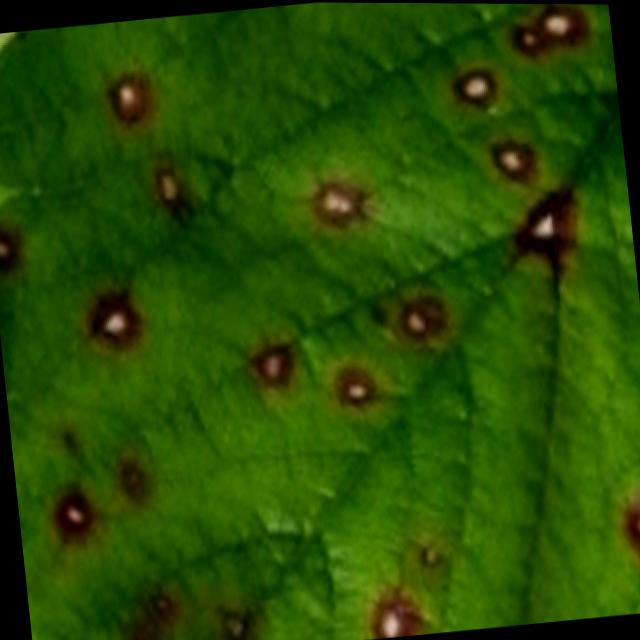Leaf Spot: (0, 2, 640, 640)
